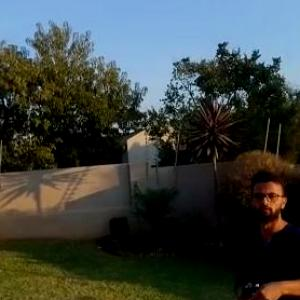follow: (231, 155, 299, 299)
